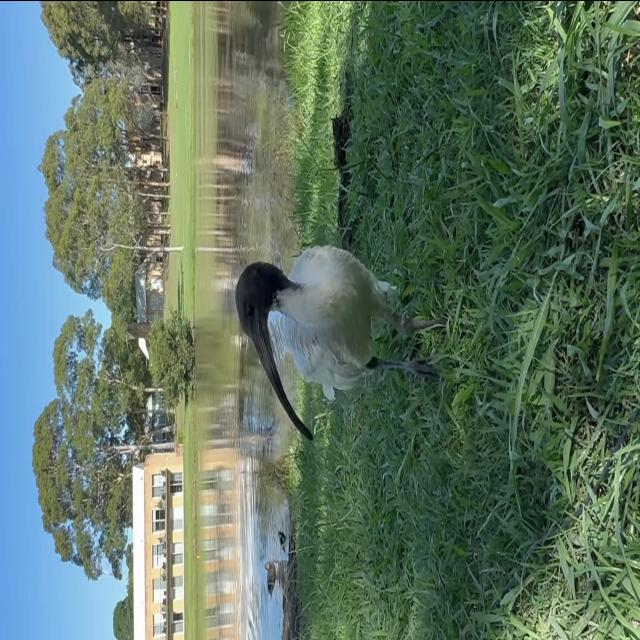Birds-Ibis: (232, 234, 458, 450)
Birds-Other: (261, 552, 281, 601)
